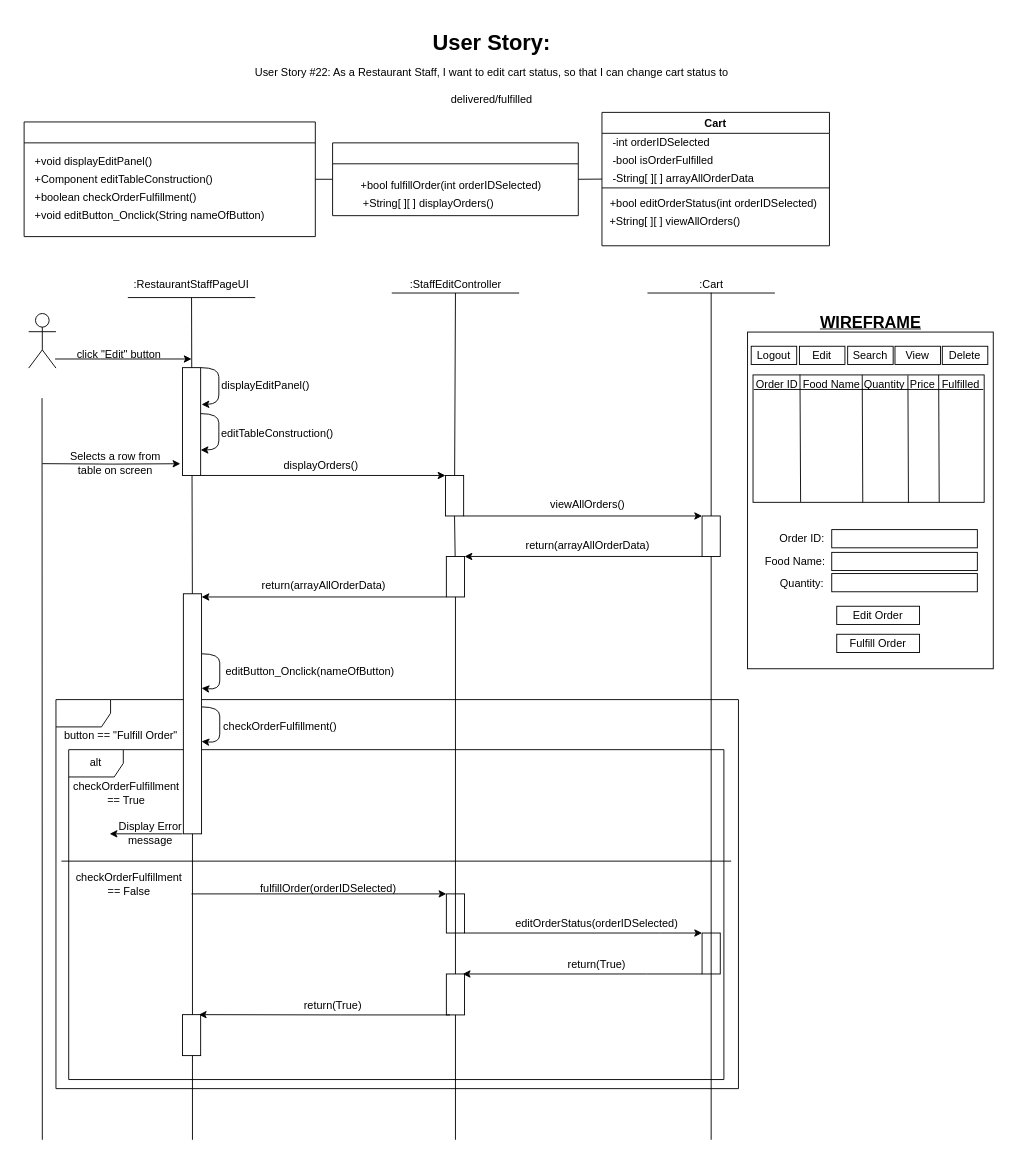
The diagram is 1009 pixels wide and 1157 high, and some of its shapes have lost their labels. Here are the shapes that lost their labels. From the top down, the box of each, then its label:
(23, 121, 315, 237): RestaurantStaffPageUI
(332, 142, 578, 216): StaffEditController
(28, 313, 56, 368): Restaurant Staff
(55, 699, 738, 1089): Case
